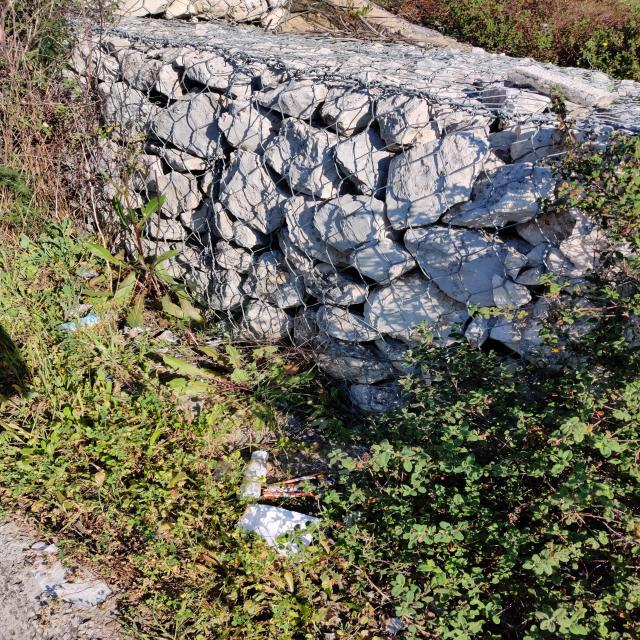litter: (223, 505, 332, 566), (230, 439, 285, 506), (46, 307, 111, 338)
